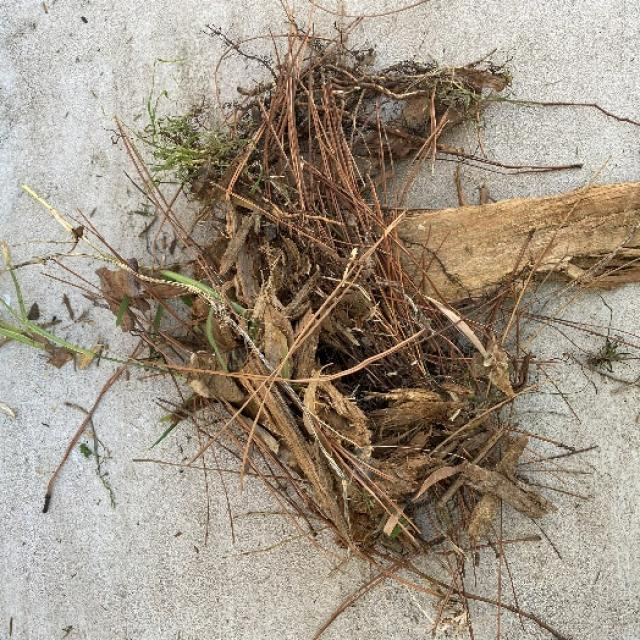organik: (90, 26, 555, 575)
